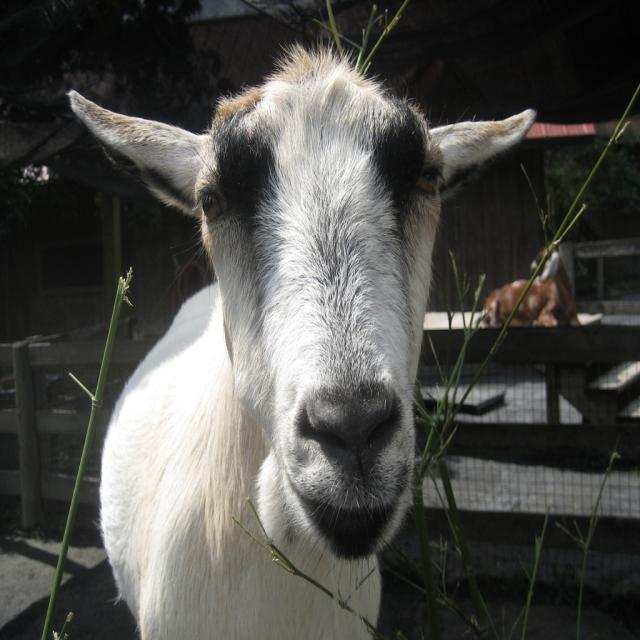Goat: (66, 36, 538, 638), (480, 244, 582, 329)
